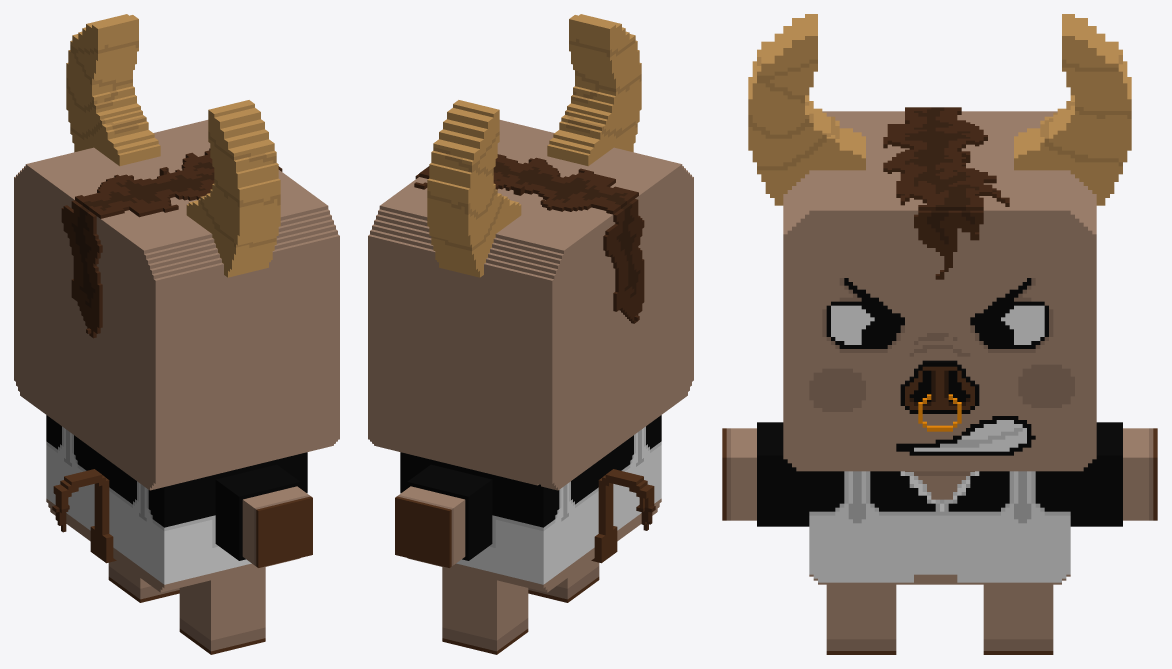
File: NPC_7.obj
3 views of the same model, side by side, from view 1: azimuth 30°, elevation 25°; view 2: azimuth 150°, elevation 25°; view 3: azimuth 270°, elevation 25° (orthographic). The views are drawn at different scales.
Bounding box in the file's own units: 6.5 × 15.4 × 10.
